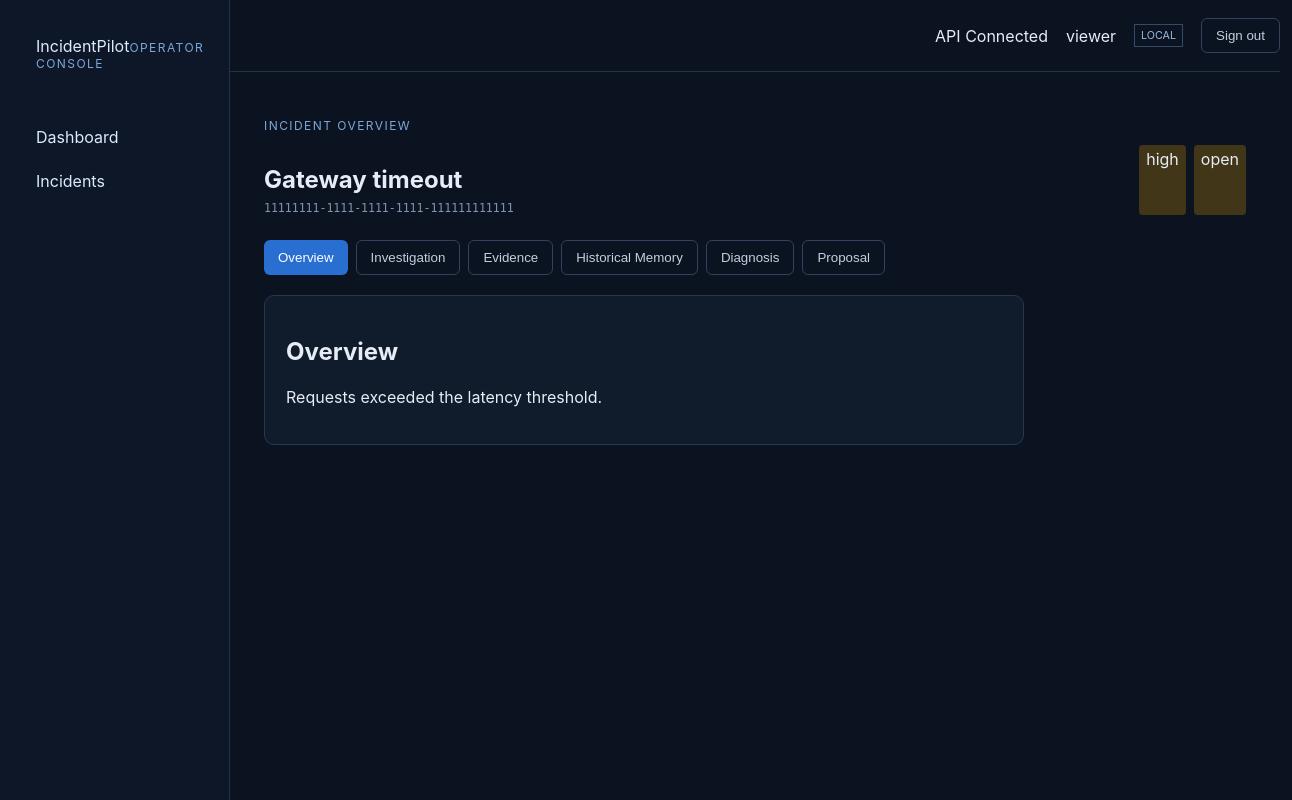
Scenario: incident workspace safety › loads the backend viewer role and keeps proposals read-only
Expected: the text "viewer" is shown, left=1066, top=26, right=1116, bottom=46
Click the button "Proposal": (844, 257) left=802, top=240, right=885, bottom=275
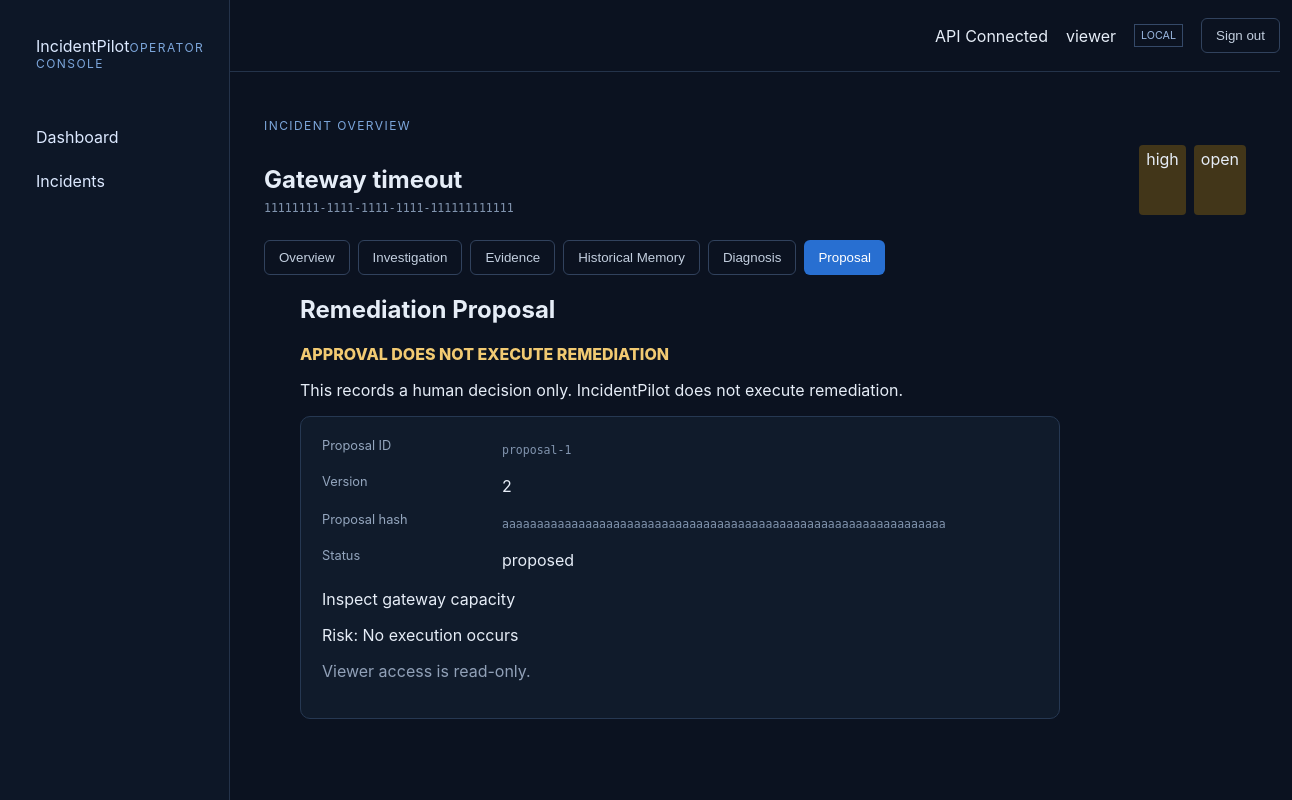
Result: the text "Viewer access is read-only." is shown at left=322, top=661, right=531, bottom=681
